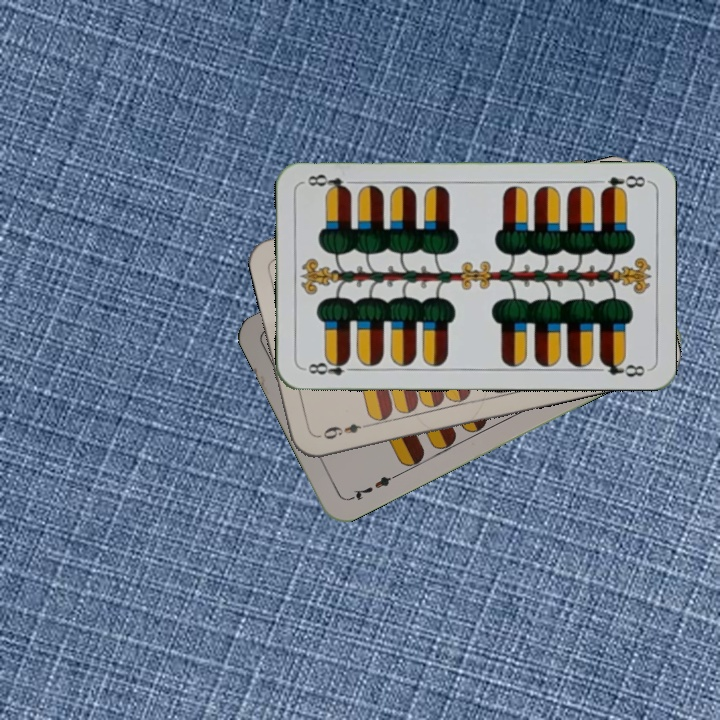E7: (345, 470, 400, 503)
E8: (300, 355, 359, 378), (597, 172, 648, 196)
E9: (319, 419, 373, 442)
